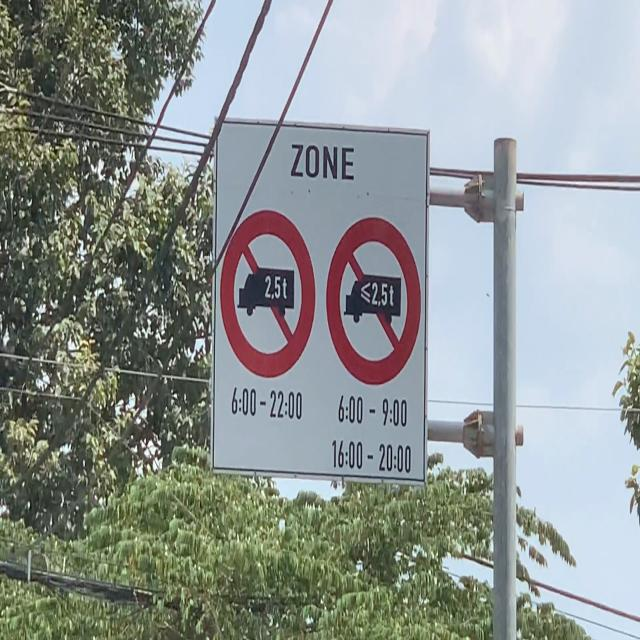Cam con lai: (326, 203, 422, 390), (220, 203, 318, 376)
